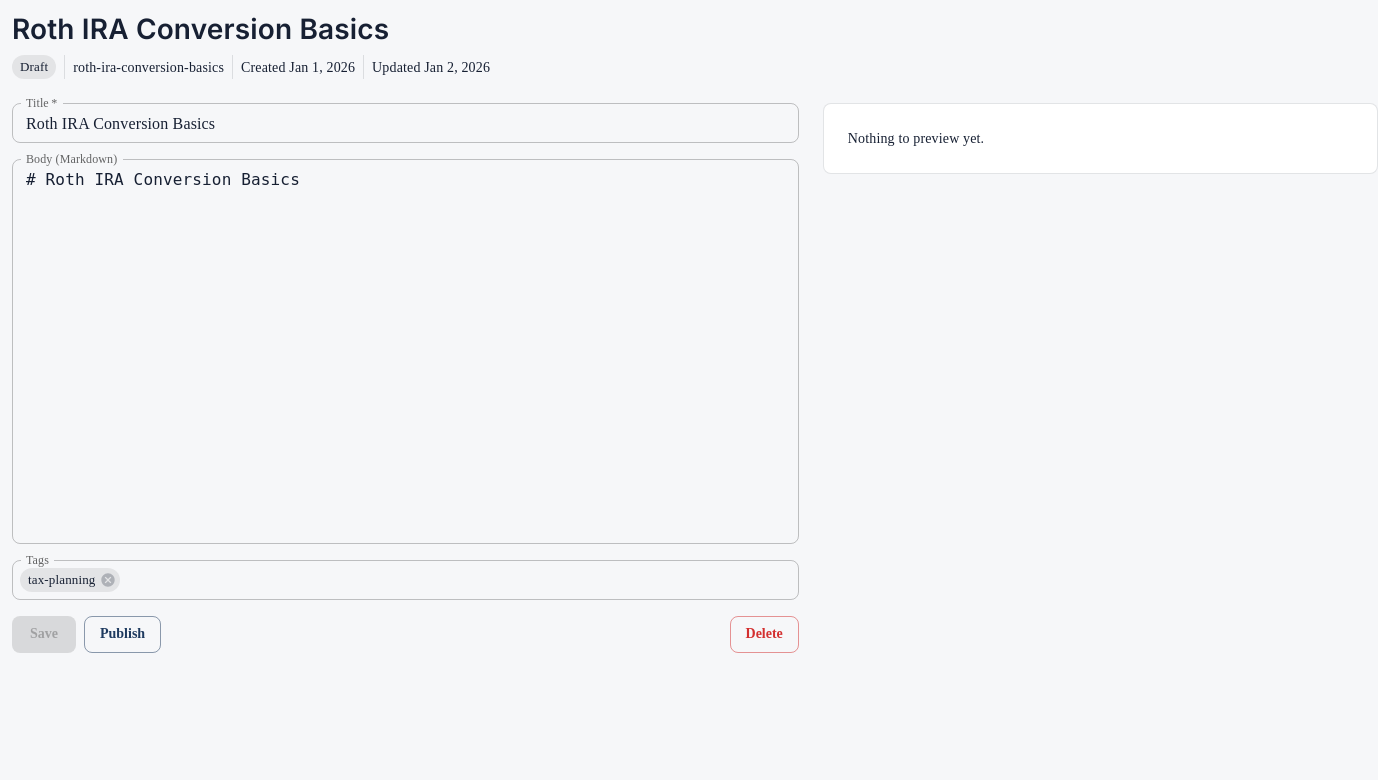
Test: ContentEditorScreen resilient background refetch › a failed background refetch after a successful Save keeps the form mounted with typed values intact, and surfaces the failure as an alert
Replace the text in the field labelled "Title *" with "Changed Title" at point(405, 123), box [12,103,799,143]
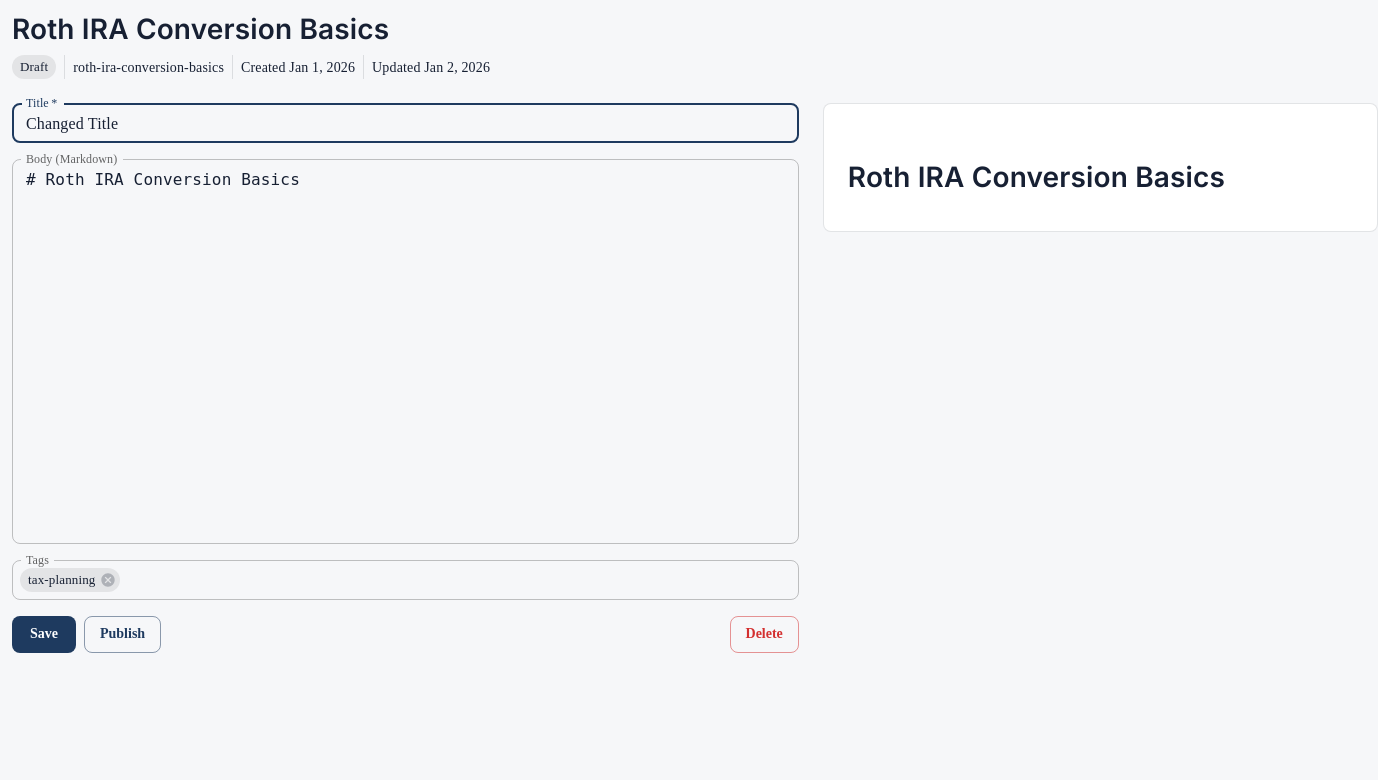
Click the button "Save".
click(44, 634)  # box [12,616,76,652]
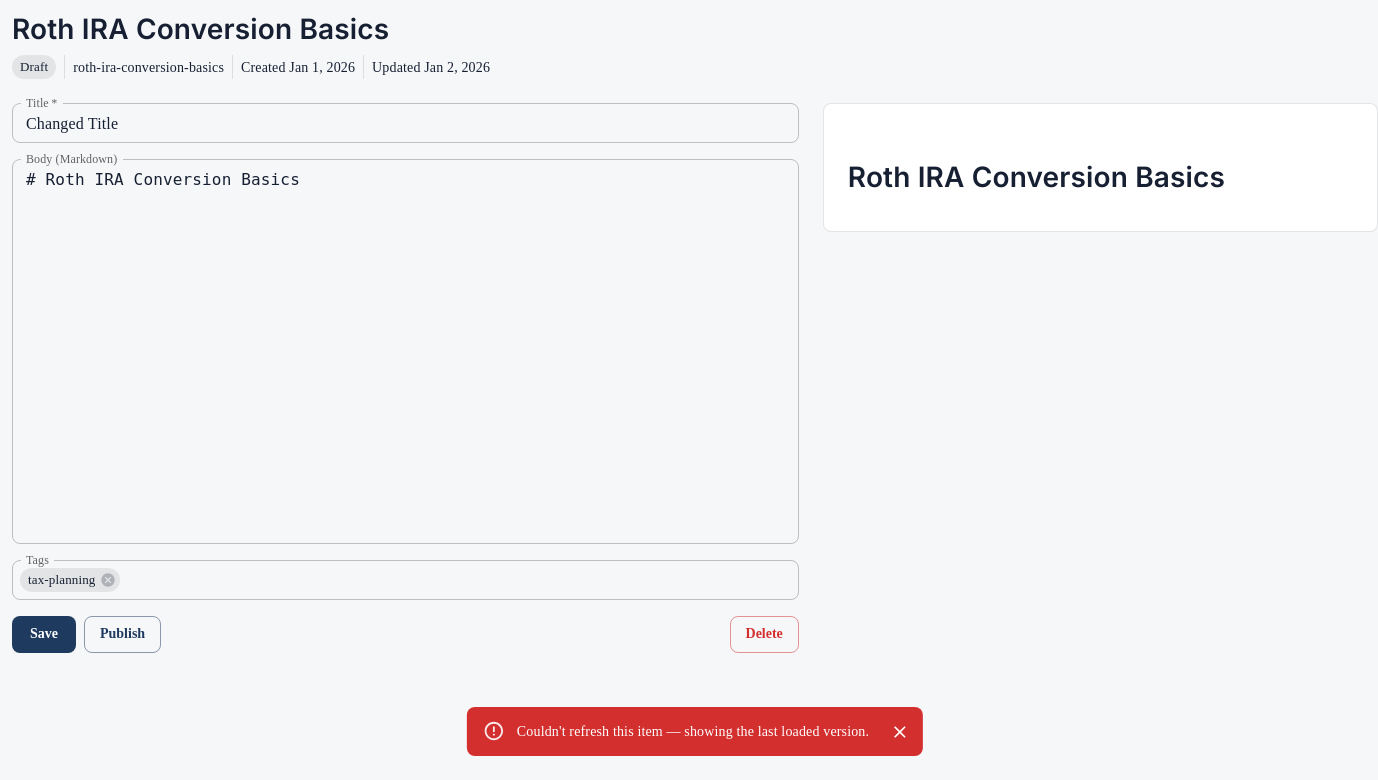
expect the message "Couldn't refresh this item — showing the last loaded version." is shown: met, box [467,707,923,756]
